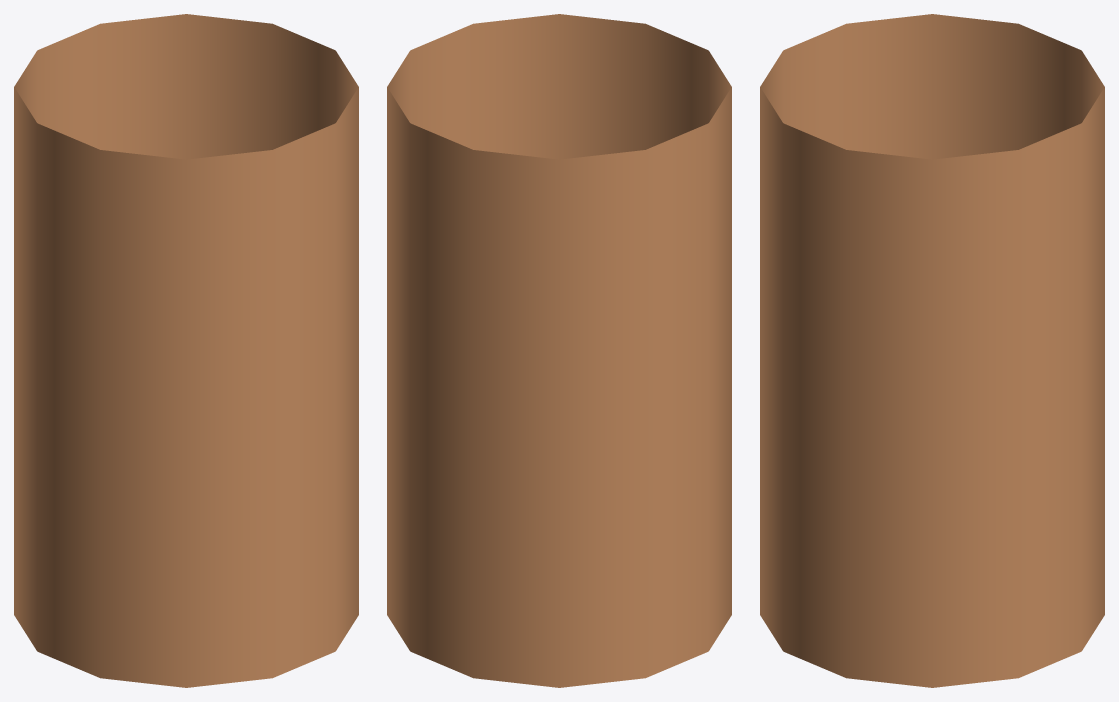
File: Locked.fbx
3 views of the same model, side by side, from view 1: azimuth 30°, elevation 25°; view 2: azimuth 150°, elevation 25°; view 3: azimuth 270°, elevation 25° (orthographic).
Parts seen in each view (by area): view 1: Locked; view 2: Locked; view 3: Locked.
Part boxes in pixels (<box>): Locked: <box>14,14,358,687</box>; Locked: <box>387,14,731,687</box>; Locked: <box>760,14,1104,687</box>.
Bounding box in the file's own units: 207 × 207 × 351.
